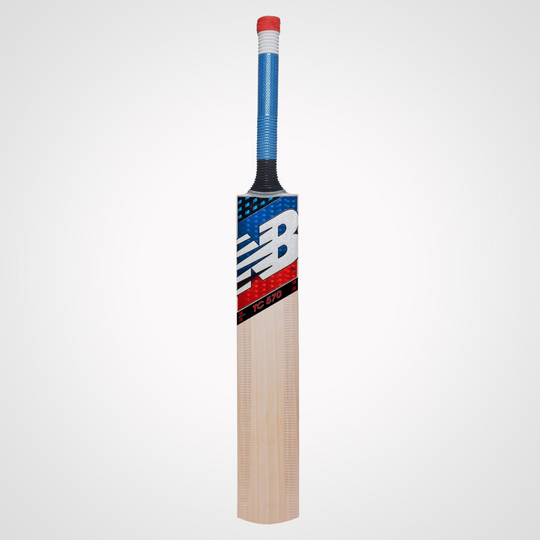bottom left: (224, 493, 258, 526)
bottom right: (284, 491, 321, 531)
top left: (224, 186, 255, 215)
top right: (279, 182, 311, 215)
